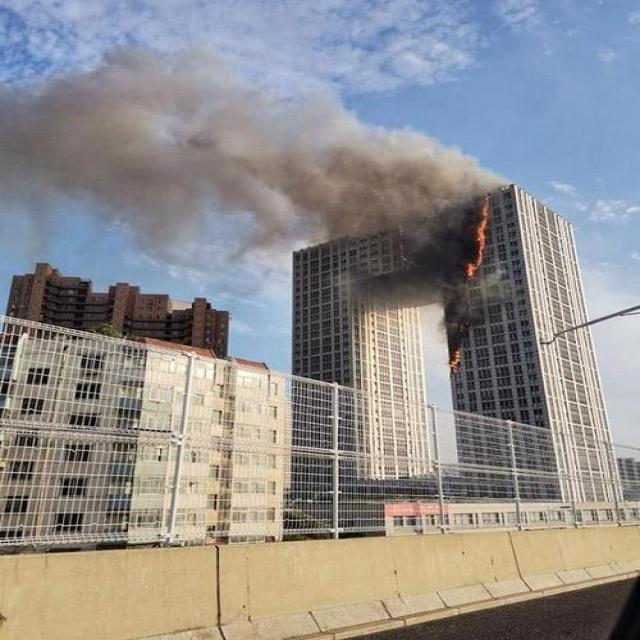Smoke: (0, 36, 476, 250)
